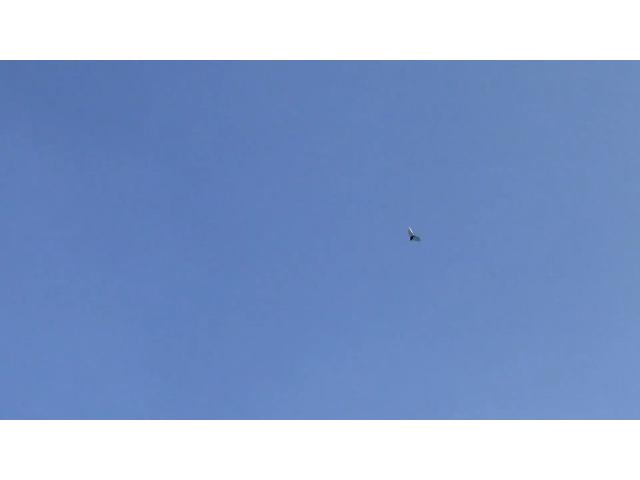Anti-Drone: (398, 218, 434, 252)
